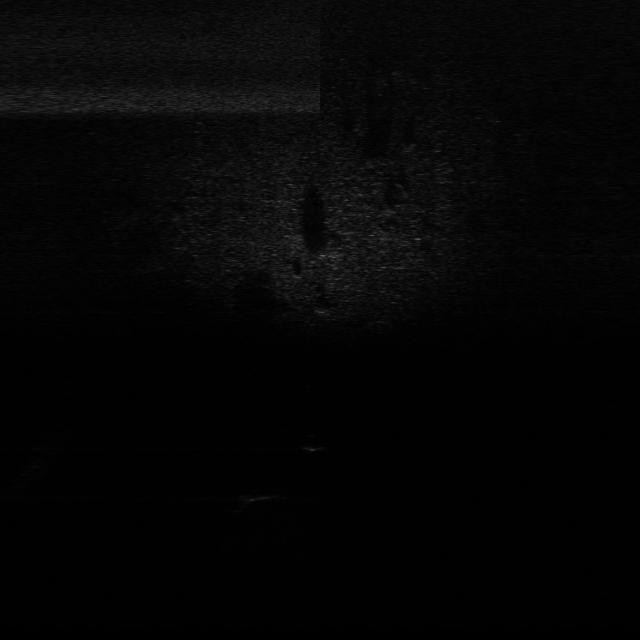ball: (301, 434, 328, 451)
square cage: (240, 482, 290, 508)
tyre: (368, 315, 397, 335)
